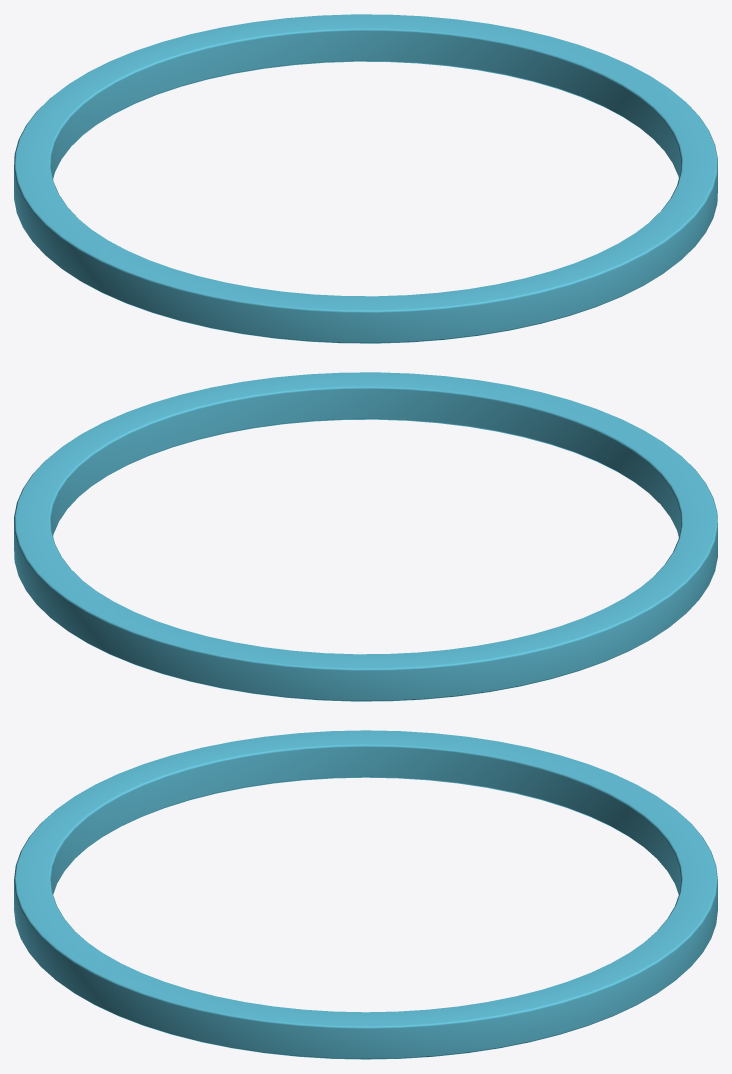
The picture shows the model from 3 angles, top to bottom: view 1: azimuth 30°, elevation 25°; view 2: azimuth 150°, elevation 25°; view 3: azimuth 270°, elevation 25°; orthographic projection.
Parts seen in each view (by area): view 1: seal_body; view 2: seal_body; view 3: seal_body.
Boxes of the visible parts, x1,y1,x2,y2 form: seal_body: (14,14,717,343); seal_body: (14,372,717,701); seal_body: (14,730,717,1059).
Bounding box in the file's own units: 0.19 × 0.01 × 0.19.
